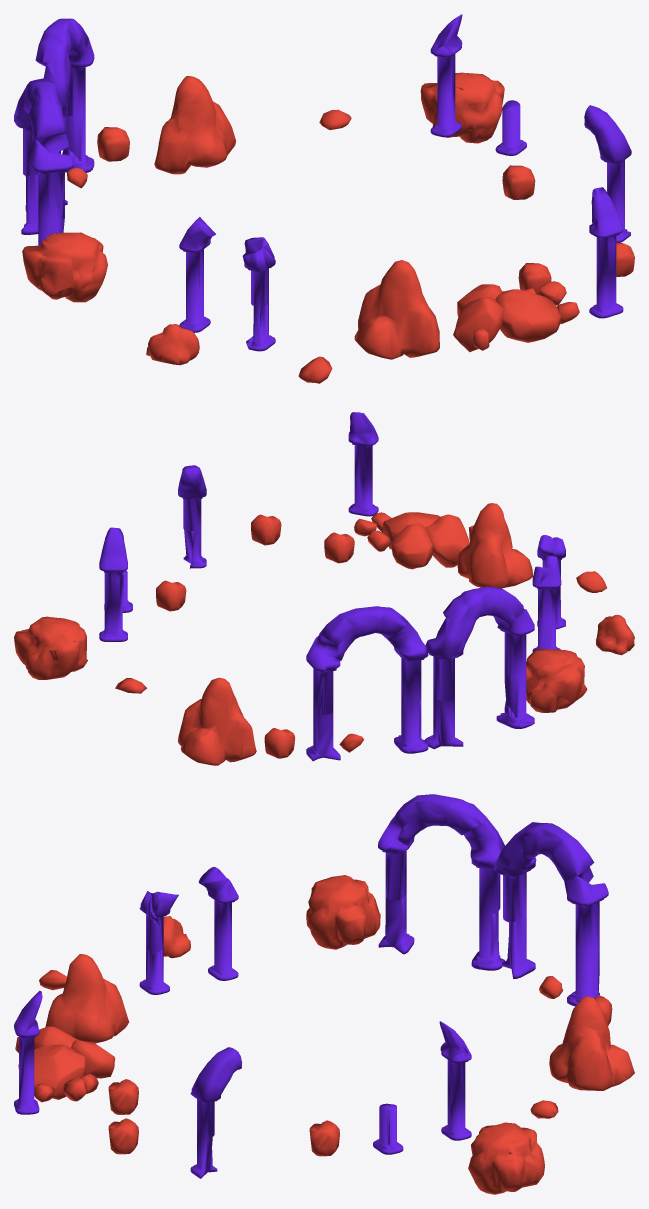
Rendered from First_Island_Decors.fbx.
3 renders of one model, top to bottom at view 1: azimuth 30°, elevation 25°; view 2: azimuth 150°, elevation 25°; view 3: azimuth 270°, elevation 25°, orthographic. The views are drawn at different scales.
Visible parts, largest first — view 1: First_Island_Decors; view 2: First_Island_Decors; view 3: First_Island_Decors.
Boxes of the visible parts, bbox=[...] form: First_Island_Decors: bbox=[14, 14, 634, 383]; First_Island_Decors: bbox=[14, 412, 634, 765]; First_Island_Decors: bbox=[14, 794, 634, 1194].
Bounding box in the file's own units: 29.88 × 9.76 × 29.8.
